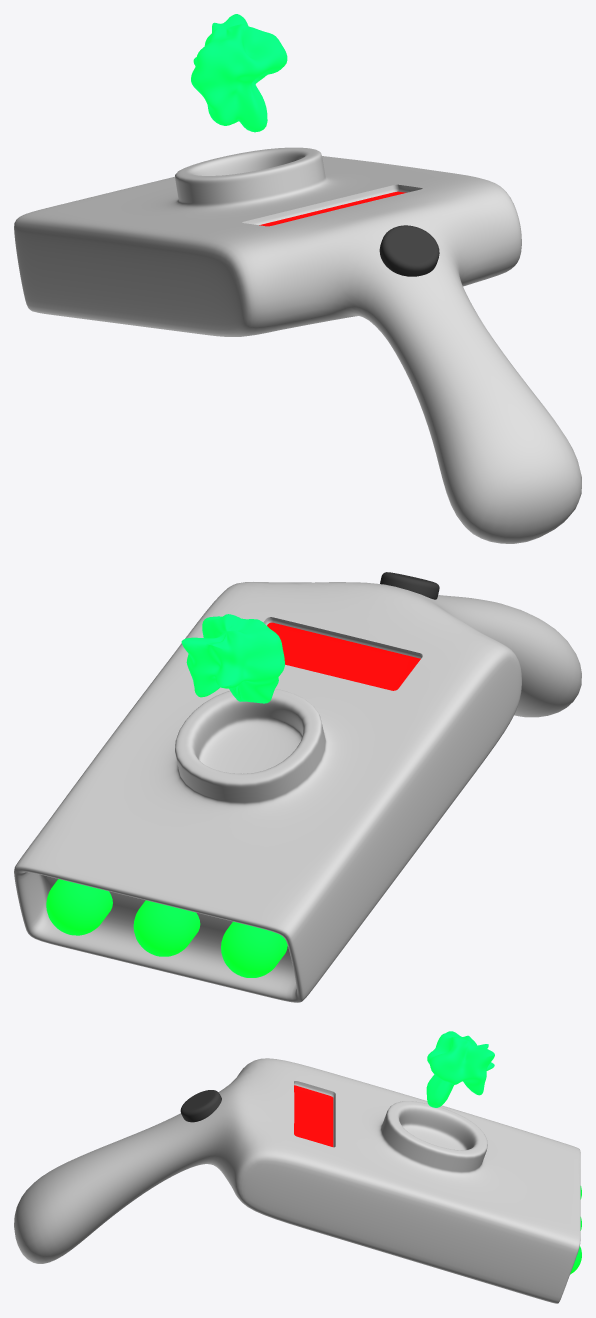
The model's file is rick_portal_gun.glb.
3 renders of one model, top to bottom at view 1: azimuth 30°, elevation 25°; view 2: azimuth 150°, elevation 25°; view 3: azimuth 270°, elevation 25°, orthographic. The views are drawn at different scales.
Parts seen in each view (by area): view 1: BODY, PLASMA, Cilindro; view 2: BODY, LIGHTS, PLASMA, LCD, Cilindro; view 3: BODY, PLASMA, LCD, Cilindro.
Part boxes in pixels (x1,y1,x2,y2): BODY: (14,147,581,543); PLASMA: (191,14,287,132); Cilindro: (379,225,439,276); BODY: (14,582,581,1002); LIGHTS: (46,879,287,977); PLASMA: (181,614,284,703); LCD: (267,622,420,690); Cilindro: (380,572,439,599); BODY: (14,1058,580,1303); PLASMA: (426,1031,494,1107); LCD: (294,1085,333,1146); Cilindro: (180,1090,221,1122).
Size of what is drawn, in the model's own units: 129 by 134 by 308.
